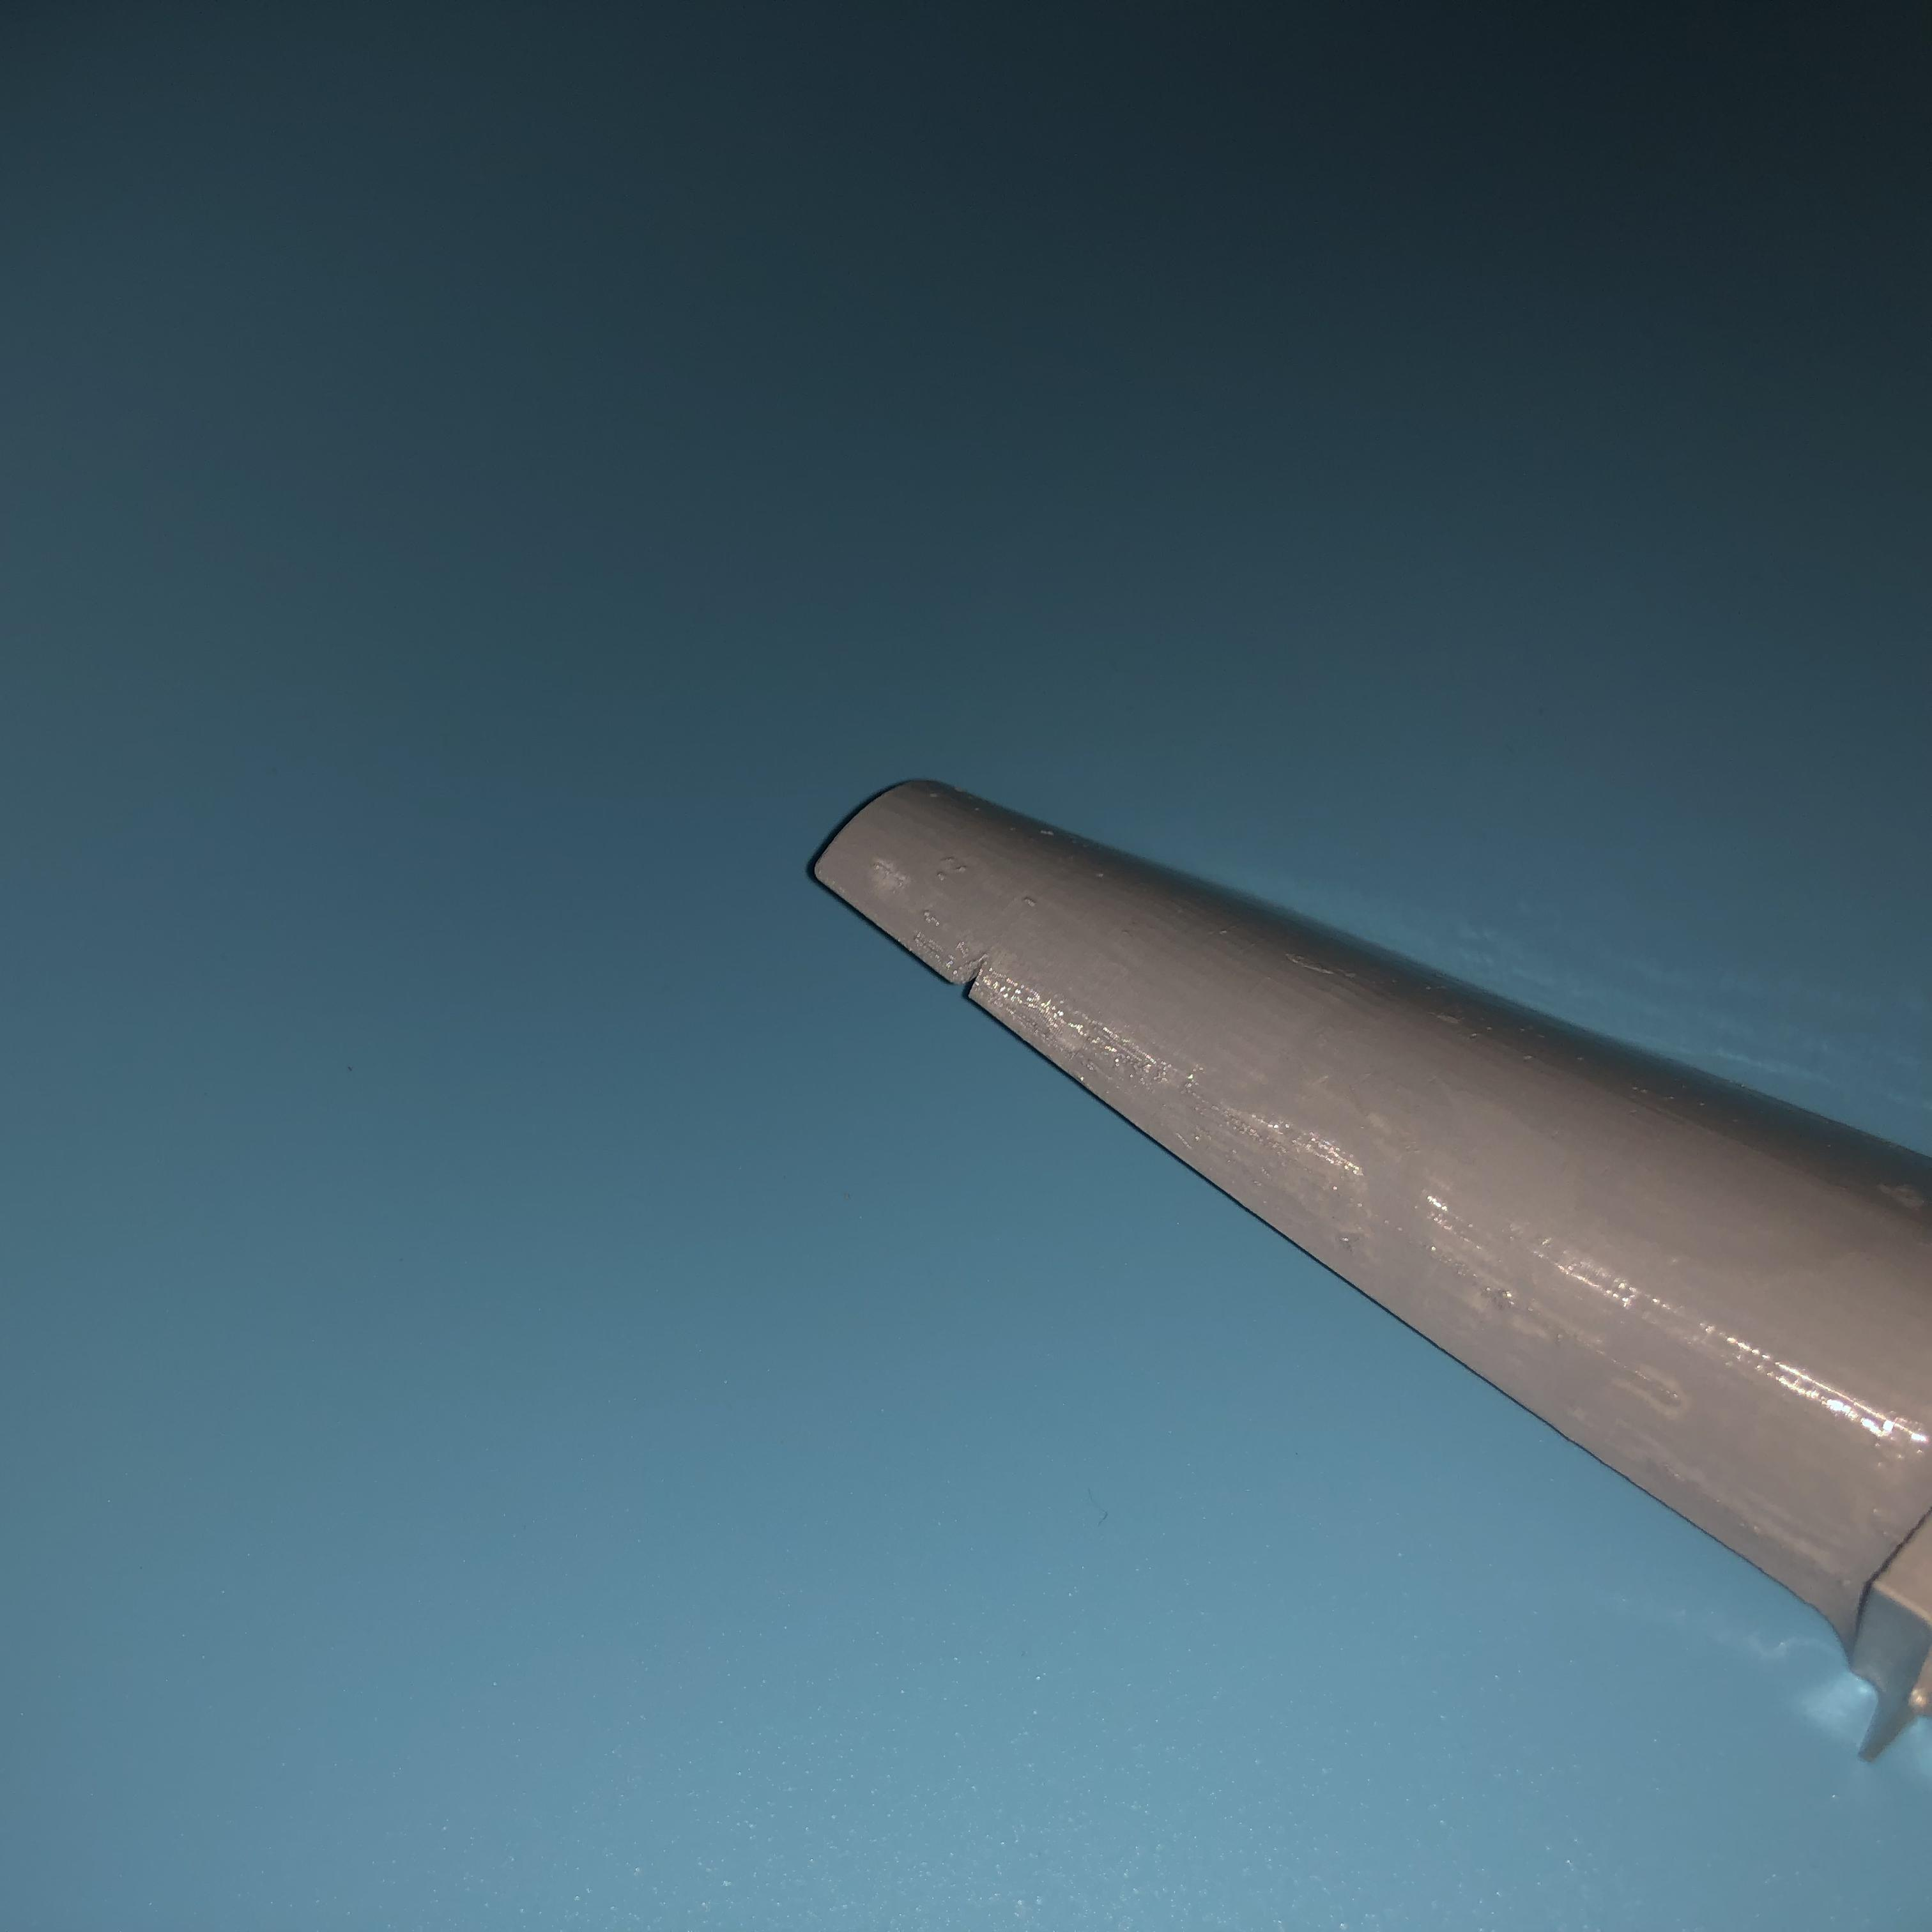groove: (947, 957, 996, 1001)
